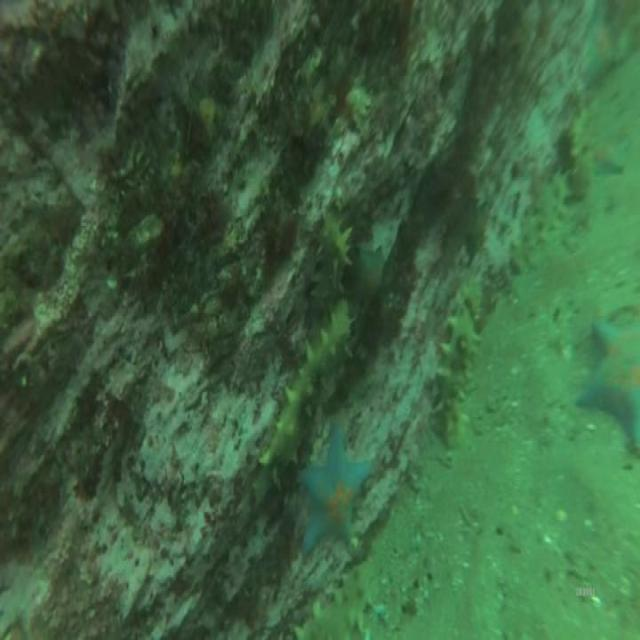holothurian: (260, 291, 352, 474), (509, 162, 569, 276), (438, 283, 477, 450), (316, 207, 354, 288)
starfish: (297, 414, 374, 556), (581, 312, 640, 458), (592, 133, 635, 183), (356, 240, 386, 304), (582, 16, 617, 65)
